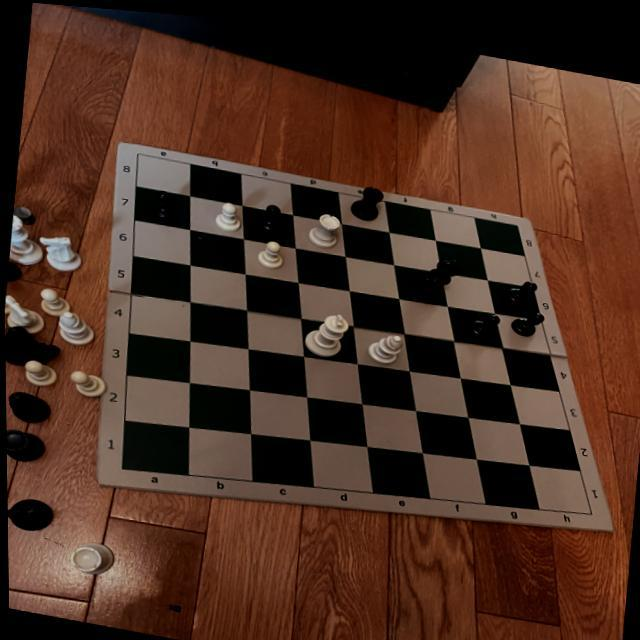chess-table-corners: (114, 459, 134, 473), (510, 212, 526, 224), (581, 499, 596, 510), (132, 148, 146, 159)
